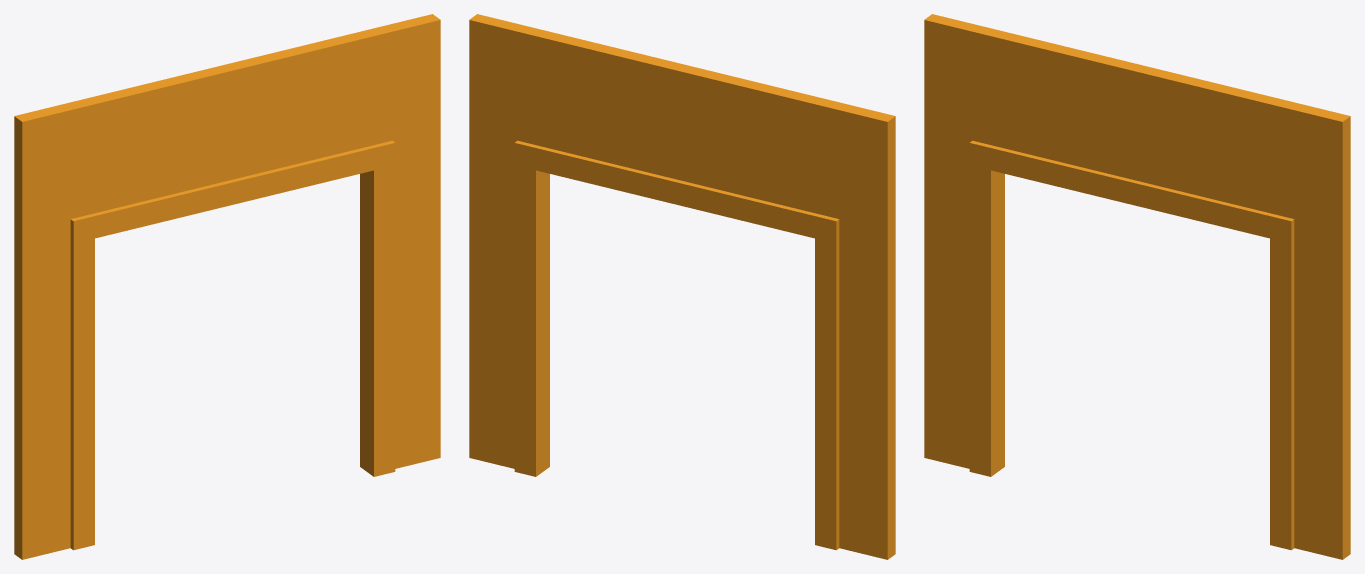
File: SM_Buildings_WallDoorDouble_3x3_01.fbx
The picture shows the model from 3 angles, left to right: view 1: azimuth 30°, elevation 25°; view 2: azimuth 150°, elevation 25°; view 3: azimuth 330°, elevation 25°; orthographic projection.
Parts seen in each view (by area): view 1: SM_Buildings_WallDoorDouble_3x3_01; view 2: SM_Buildings_WallDoorDouble_3x3_01; view 3: SM_Buildings_WallDoorDouble_3x3_01.
Part boxes in pixels (<box>): SM_Buildings_WallDoorDouble_3x3_01: <box>14,14,440,559</box>; SM_Buildings_WallDoorDouble_3x3_01: <box>469,14,895,559</box>; SM_Buildings_WallDoorDouble_3x3_01: <box>924,14,1350,559</box>.
Bounding box in the file's own units: 300 × 300 × 17.29.
